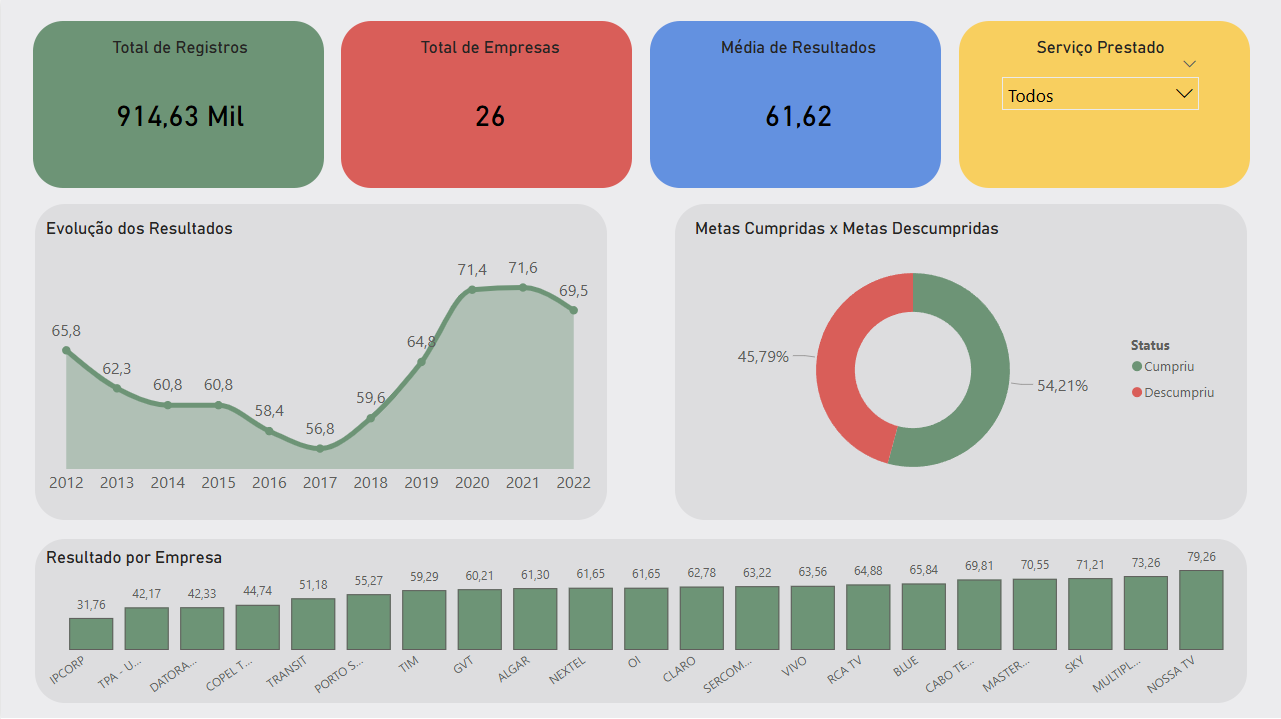

This screenshot's page, from the dashboard's own definition file:
{"tool":"powerbi","page":{"name":"Dashboard 1","canvas":[1280,720],"ordinal":0},"visuals":[{"type":"areaChart","title":"Evolução dos Resultados","fields":{"Y":["Avg(indicadores_qualidade_anatel.resultados)"],"Category":["indicadores_qualidade_anatel.ano"]},"box":[40,217.5,557.5,285],"z":0},{"type":"donutChart","title":"Metas Cumpridas x Metas Descumpridas","fields":{"Category":["indicadores_qualidade_anatel.Status"],"Y":["CountNonNull(indicadores_qualidade_anatel.Status)"]},"box":[688.8,217.5,538.8,285],"z":1000},{"type":"clusteredColumnChart","fields":{"Y":["Avg(indicadores_qualidade_anatel.resultados)"],"Category":["indicadores_qualidade_anatel.empresa"]},"box":[40,531.7,1210,175],"z":2000},{"type":"card","title":"Total de Registros","fields":{"Values":["CountNonNull(indicadores_qualidade_anatel.resultados)"]},"box":[54.3,37.1,250,133.6],"z":3000},{"type":"card","title":"Total de Empresas","fields":{"Values":["Count(indicadores_qualidade_anatel.empresa)"]},"box":[380.7,37.1,216.4,133.6],"z":4000},{"type":"card","title":"Média de Resultados","fields":{"Values":["Avg(indicadores_qualidade_anatel.resultados)"]},"box":[688.6,37.1,217.1,133.6],"z":5000},{"type":"slicer","title":"Serviço Prestado","fields":{"Values":["indicadores_qualidade_anatel.servico"]},"box":[991.4,37.1,216.4,133.6],"z":6000},{"type":"clusteredColumnChart","title":"Resultado por Empresa","fields":{"Category":["indicadores_qualidade_anatel.ano"]},"box":[40,546.7,300,173.3],"z":6001}]}

Visuals, with their boxes in screenshot pixels (x1, y1, x2, y2), scaled from the page's 1280x720 canvas onto the 1281x719 screenshot:
"Evolução dos Resultados" areaChart: 40, 217, 598, 502
"Metas Cumpridas x Metas Descumpridas" donutChart: 689, 217, 1229, 502
clusteredColumnChart - Avg(indicadores_qualidade_anatel.resultados) x indicadores_qualidade_anatel.empresa: 40, 531, 1251, 706
"Total de Registros" card: 54, 37, 305, 170
"Total de Empresas" card: 381, 37, 598, 170
"Média de Resultados" card: 689, 37, 906, 170
"Serviço Prestado" slicer: 992, 37, 1209, 170
"Resultado por Empresa" clusteredColumnChart: 40, 546, 340, 718
